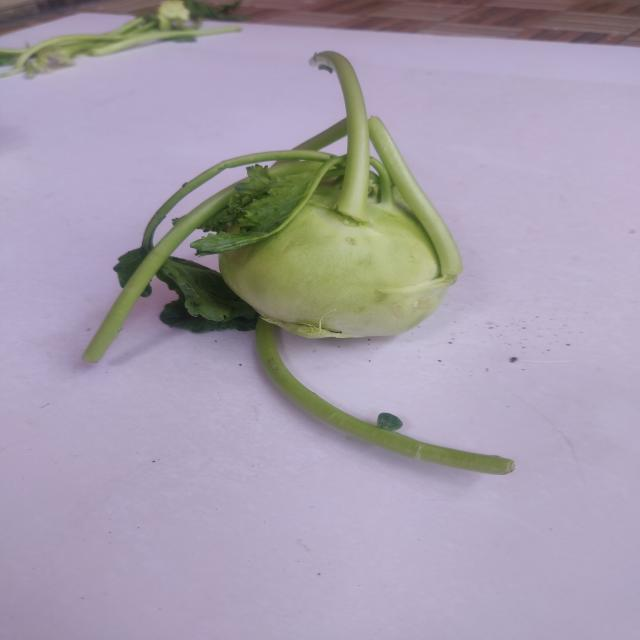Turnip: (114, 53, 544, 472)
